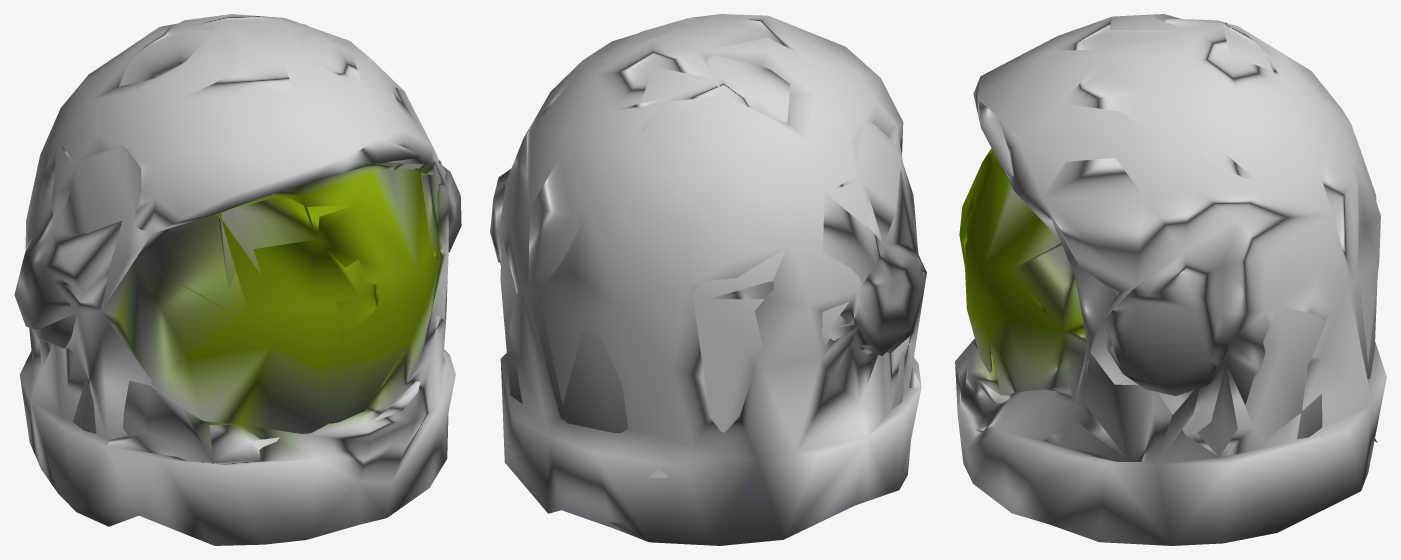
The model's file is gen3d-space-helmet-lod1.glb.
3 renders of one model, left to right at view 1: azimuth 30°, elevation 25°; view 2: azimuth 150°, elevation 25°; view 3: azimuth 270°, elevation 25°, orthographic.
Visible parts, largest first — view 1: part_0; view 2: part_0; view 3: part_0.
Part boxes in pixels (x1,y1,x2,y2): part_0: [14, 14, 461, 545]; part_0: [490, 14, 926, 545]; part_0: [955, 14, 1386, 545].
Size of the model in its own units: 0.9888 by 0.9903 by 0.9068.
